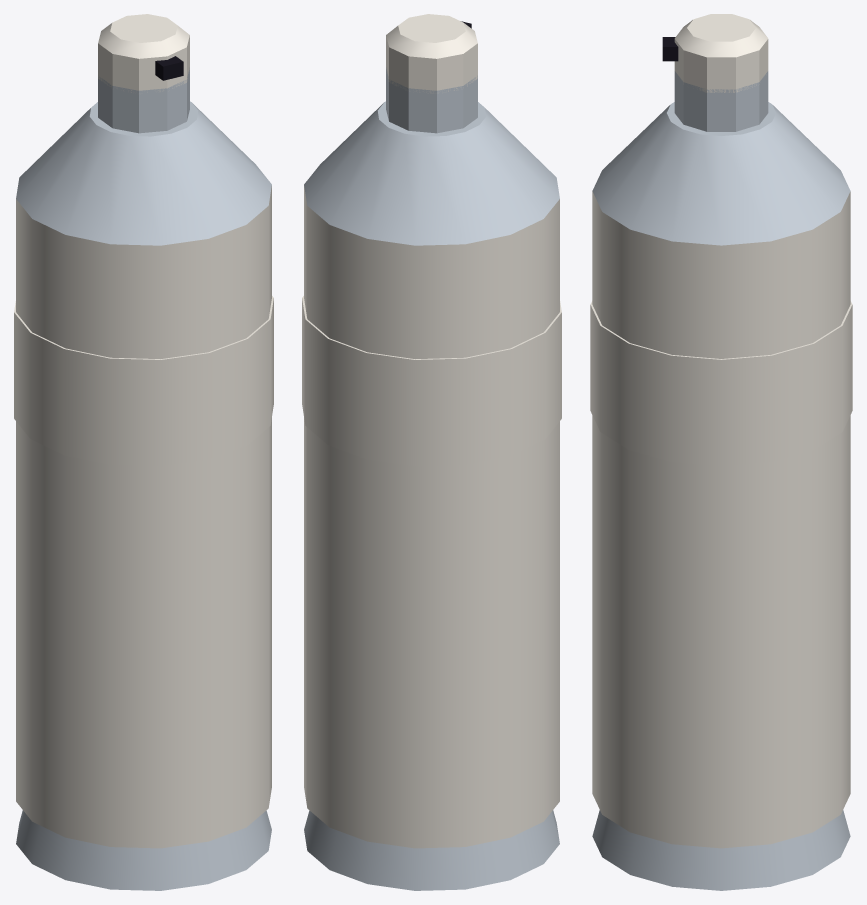
The model's file is spray_can.glb.
3 renders of one model, left to right at view 1: azimuth 30°, elevation 25°; view 2: azimuth 150°, elevation 25°; view 3: azimuth 270°, elevation 25°, orthographic.
Visible parts, largest first — view 1: spray_can; view 2: spray_can; view 3: spray_can.
Boxes of the visible parts, <box> form: spray_can: <box>14,14,273,890</box>; spray_can: <box>302,14,561,890</box>; spray_can: <box>590,14,852,890</box>.
Bounding box in the file's own units: 0.067 × 0.228 × 0.067.
Materials: 2 (2 with a texture image).
